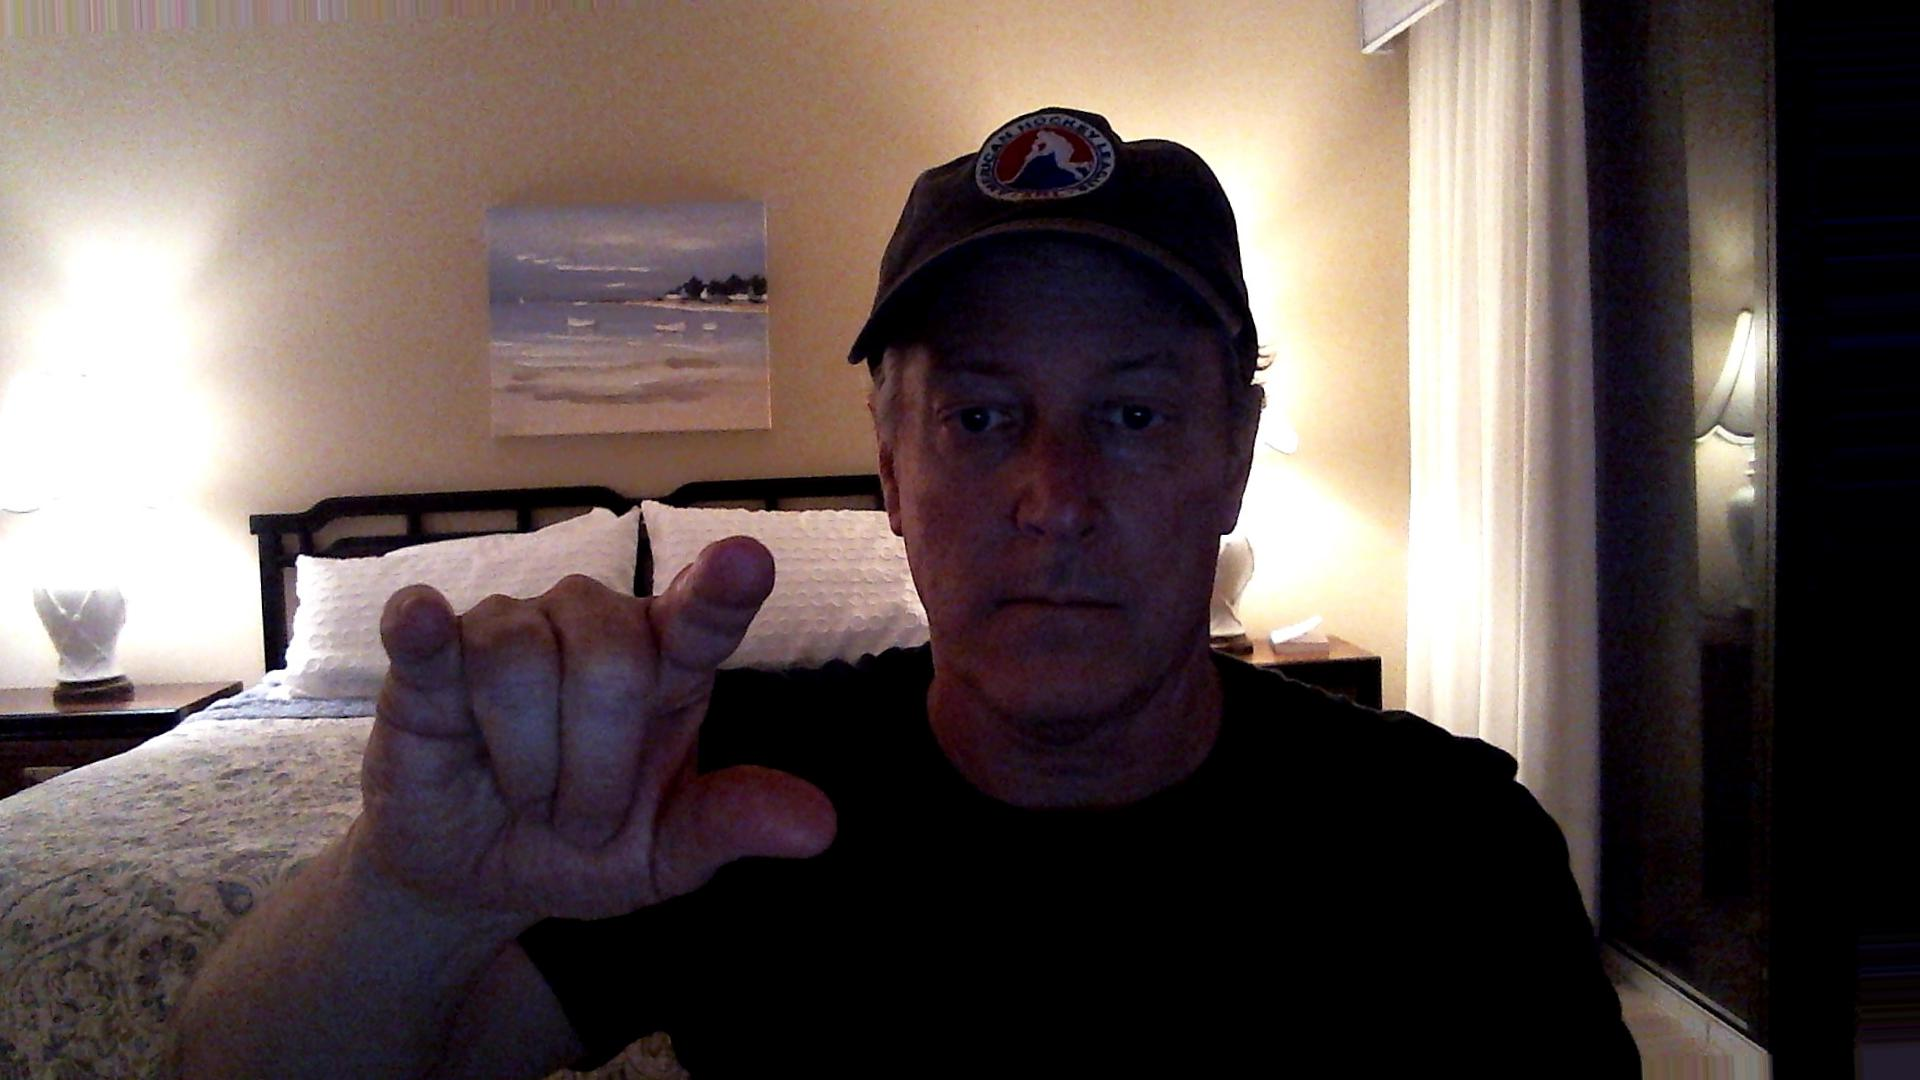I Love You: (353, 517, 868, 920)
